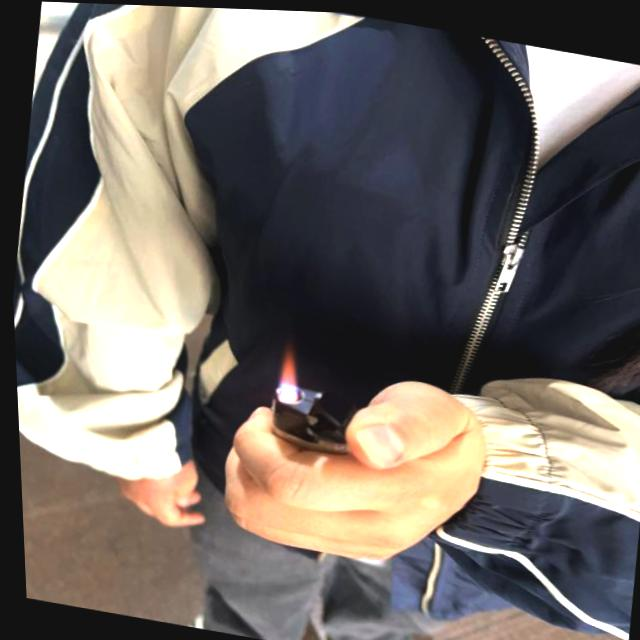Fire: (272, 341, 299, 403)
